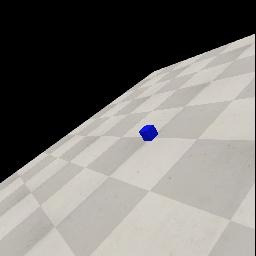box: (139, 125, 158, 141)
